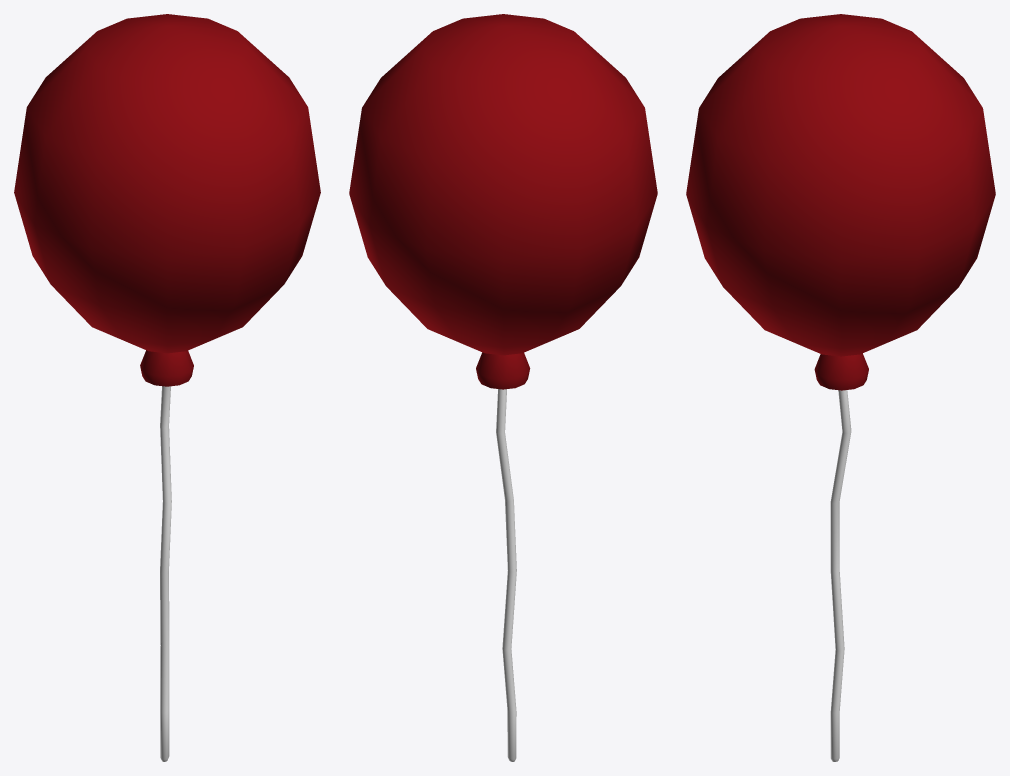
Rendered from Pungsun2-1.fbx.
The picture shows the model from 3 angles, left to right: view 1: azimuth 30°, elevation 25°; view 2: azimuth 150°, elevation 25°; view 3: azimuth 270°, elevation 25°; orthographic projection.
Parts seen in each view (by area): view 1: Pungsun2-1; view 2: Pungsun2-1; view 3: Pungsun2-1.
Boxes of the visible parts, x1,y1,x2,y2 form: Pungsun2-1: (14, 14, 320, 761); Pungsun2-1: (349, 14, 657, 761); Pungsun2-1: (686, 14, 995, 761).
Bounding box in the file's own units: 0.1547 × 0.4067 × 0.1547.
